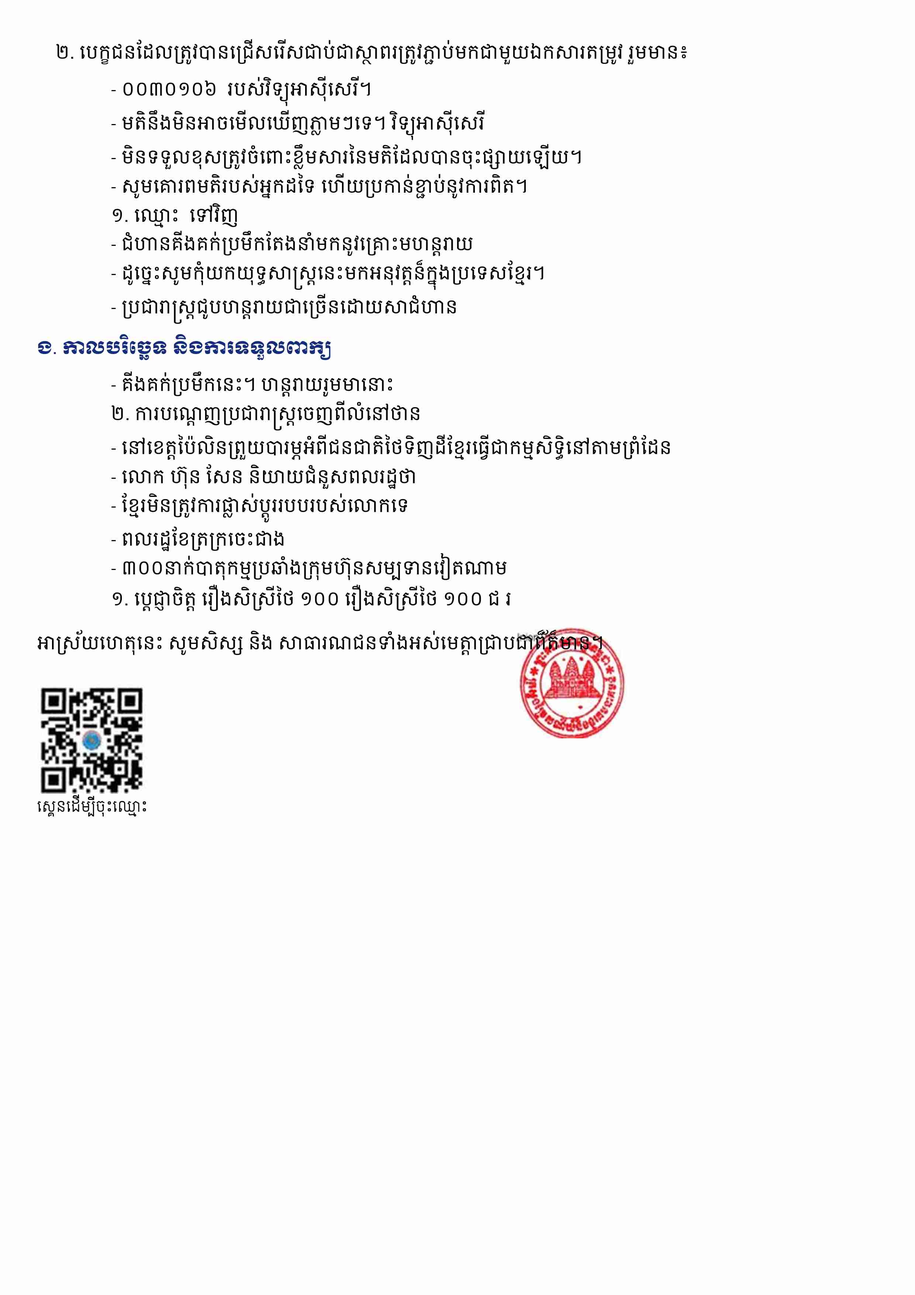decorative: (37, 683, 148, 794), (517, 628, 627, 738)
text: (55, 39, 689, 65), (111, 434, 672, 460), (37, 630, 604, 655), (111, 260, 545, 290), (111, 144, 583, 169), (111, 110, 484, 140), (111, 173, 528, 199), (111, 584, 511, 611), (111, 553, 507, 580), (111, 294, 458, 324), (111, 401, 421, 431), (111, 231, 474, 256), (111, 493, 409, 523), (111, 76, 372, 106), (111, 464, 417, 489), (37, 334, 331, 360), (111, 371, 394, 397), (111, 526, 286, 552), (111, 203, 239, 228), (37, 794, 148, 817)
